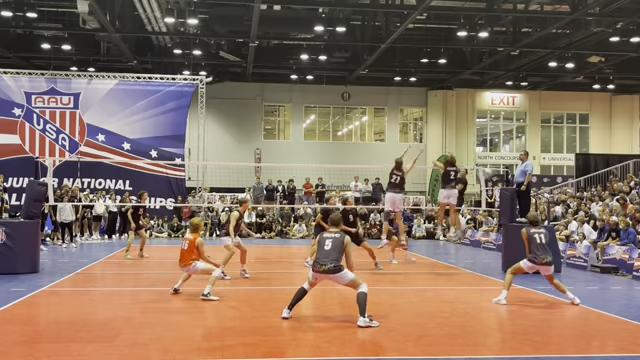attacco: (382, 143, 428, 250), (425, 154, 470, 246), (456, 162, 471, 242)
